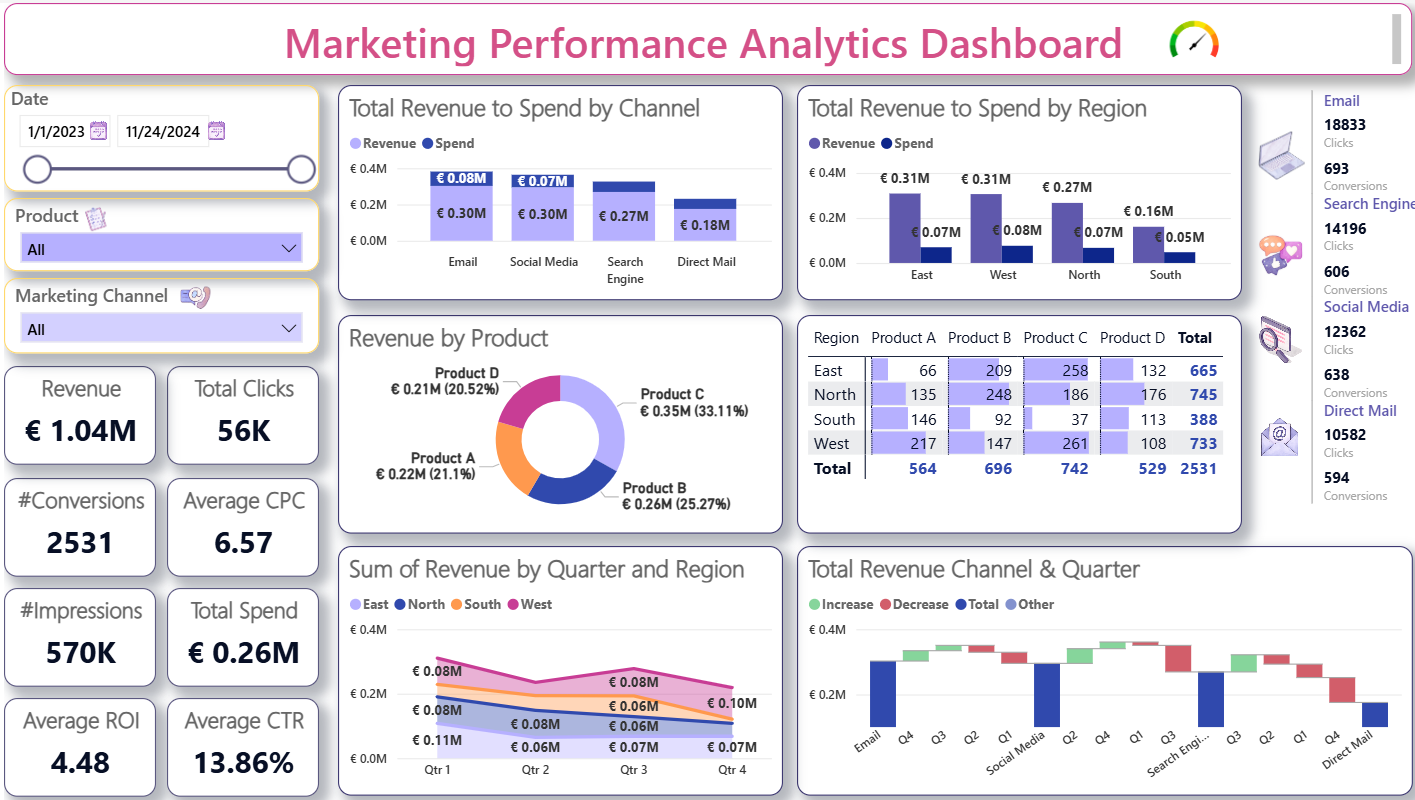

The dashboard page shown, as its layout file describes it:
{"tool":"powerbi","page":{"name":"Dashboard","canvas":[1280,720],"ordinal":0},"visuals":[{"type":"card","title":"Total Clicks","fields":{"Values":["Sum(Sheet1.Clicks)"]},"box":[147,327.1,137.5,88.9],"z":0},{"type":"card","title":"#Conversions","fields":{"Values":["Sum(Sheet1.Conversions)"]},"box":[0,427.9,137.5,88.9],"z":1000},{"type":"card","title":"Average CPC","fields":{"Values":["Avg(Sheet1.CPC)"]},"box":[147,427.9,137.5,88.9],"z":2000},{"type":"card","title":"#Impressions","fields":{"Values":["Sum(Sheet1.Impressions)"]},"box":[0,527.4,137.5,88.9],"z":3000},{"type":"card","title":"Revenue","fields":{"Values":["Sum(Sheet1.Revenue)"]},"box":[0,327.1,137.5,88.9],"z":4000},{"type":"card","title":"Total Spend","fields":{"Values":["Sum(Sheet1.Spend)"]},"box":[147,527.4,137.5,88.9],"z":5000},{"type":"card","title":"Average ROI","fields":{"Values":["Avg(Sheet1.ROI)"]},"box":[0,626,137.5,88.9],"z":6000},{"type":"card","title":"Average CTR","fields":{"Values":["Avg(Sheet1.CTR)"]},"box":[147,626,137.5,88.9],"z":7000},{"type":"textbox","box":[0,0,1269.3,65.2],"z":8000},{"type":"slicer","title":"Date","fields":{"Values":["Sheet1.Date"]},"box":[0,73.5,284.4,96],"z":9000},{"type":"waterfallChart","title":"Total Revenue Channel & Quarter","fields":{"Category":["Sheet1.Marketing_Channel"],"Y":["Sum(Sheet1.Revenue)"],"Breakdown":["Sheet1.Quarter"]},"box":[714.7,489.5,554.7,225.2],"z":10000},{"type":"donutChart","title":"Revenue by Product","fields":{"Y":["Sum(Sheet1.Revenue)"],"Category":["Sheet1.Product"]},"box":[301,280.9,400.6,196.7],"z":11000},{"type":"columnChart","title":"Total Revenue to Spend by Channel","fields":{"Y":["Sum(Sheet1.Revenue)","Sum(Sheet1.Spend)"],"Category":["Sheet1.Channel"]},"box":[301,73.5,400.6,194.4],"z":12000},{"type":"clusteredColumnChart","title":"Total Revenue to Spend by Region","fields":{"Category":["Sheet1.Region"],"Y":["Sum(Sheet1.Revenue)","Sum(Sheet1.Spend)"]},"box":[714.7,73.5,400.6,194.4],"z":13000},{"type":"stackedAreaChart","fields":{"Category":["Sheet1.Date.Variation.Date Hierarchy.Quarter"],"Y":["Sum(Sheet1.Revenue)"],"Series":["Sheet1.Region"]},"box":[301,489.5,400.6,225.2],"z":14000},{"type":"image","box":[1020.4,0,105.5,65.2],"z":15000},{"type":"multiRowCard","fields":{"Values":["Sum(Sheet1.Clicks)","Sum(Sheet1.Conversions)","Sheet1.Channel"]},"box":[1173.3,73.5,106.7,391.1],"z":16000},{"type":"image","box":[1111.7,105.5,77,64],"z":17000},{"type":"image","box":[1111.7,180.1,77,87.7],"z":18000},{"type":"image","box":[1098.7,252.4,103.1,101.9],"z":19000},{"type":"image","box":[1107,343.7,86.5,96],"z":20000},{"type":"pivotTable","fields":{"Values":["Sum(Sheet1.Conversions)"],"Rows":["Sheet1.Region"],"Columns":["Sheet1.Product"]},"box":[714.7,280.9,400.6,196.7],"z":21000},{"type":"slicer","title":"Product","fields":{"Values":["Sheet1.Product"]},"box":[0,175.4,284.4,66.4],"z":22000},{"type":"slicer","title":"Marketing Channel","fields":{"Values":["Sheet1.Channel"]},"box":[0,247.7,284.4,67.6],"z":23000},{"type":"image","box":[58.1,98.4,54.5,33.2],"z":23001},{"type":"image","box":[163.6,98.4,54.5,33.2],"z":23002},{"type":"image","box":[49.8,161.2,62.8,71.1],"z":23003},{"type":"image","box":[142.2,240.6,54.5,54.5],"z":23004}]}

Visuals, with their boxes in screenshot pixels (x1, y1, x2, y2), scaled from the page's 1280x720 canvas onto the 1415x800 screenshot:
"Total Clicks" card: 163 363 315 462
"#Conversions" card: 0 475 152 574
"Average CPC" card: 163 475 315 574
"#Impressions" card: 0 586 152 685
"Revenue" card: 0 363 152 462
"Total Spend" card: 163 586 315 685
"Average ROI" card: 0 696 152 794
"Average CTR" card: 163 696 315 794
textbox: 0 0 1403 72
"Date" slicer: 0 82 314 188
"Total Revenue Channel & Quarter" waterfallChart: 790 544 1403 794
"Revenue by Product" donutChart: 333 312 776 531
"Total Revenue to Spend by Channel" columnChart: 333 82 776 298
"Total Revenue to Spend by Region" clusteredColumnChart: 790 82 1233 298
stackedAreaChart - Sheet1.Date.Variation.Date Hierarchy.Quarter x Sum(Sheet1.Revenue): 333 544 776 794
image: 1128 0 1245 72
multiRowCard - Sum(Sheet1.Clicks) x Sum(Sheet1.Conversions): 1297 82 1414 516
image: 1229 117 1314 188
image: 1229 200 1314 298
image: 1215 280 1329 394
image: 1224 382 1319 489
pivotTable - Sum(Sheet1.Conversions) x Sheet1.Region: 790 312 1233 531
"Product" slicer: 0 195 314 269
"Marketing Channel" slicer: 0 275 314 350
image: 64 109 124 146
image: 181 109 241 146
image: 55 179 124 258
image: 157 267 217 328
